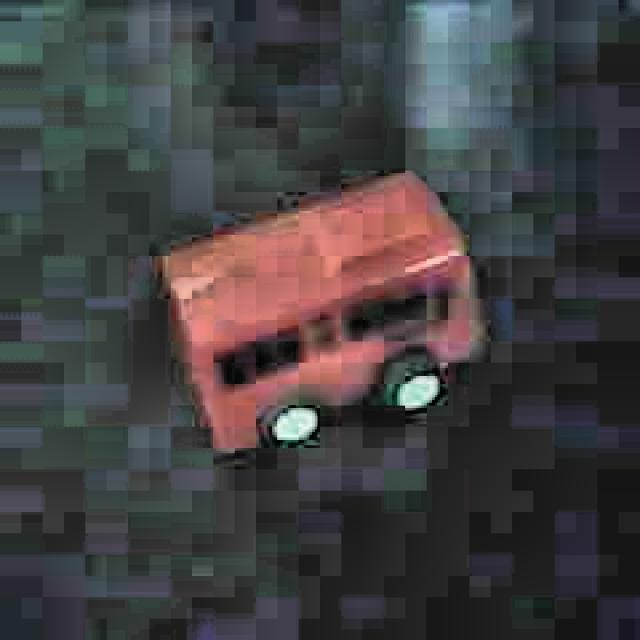bus: (150, 158, 490, 468)
